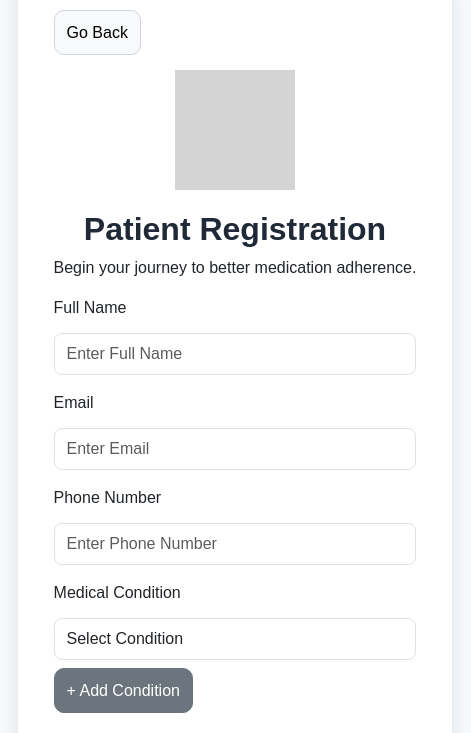
Test: PatientRegister Component › adds selected medical condition
This screenshot has width=471, height=733.
Select "Diabetes" in the dropdown showing "Select Condition" at point(235, 639), box [54,618,416,660]
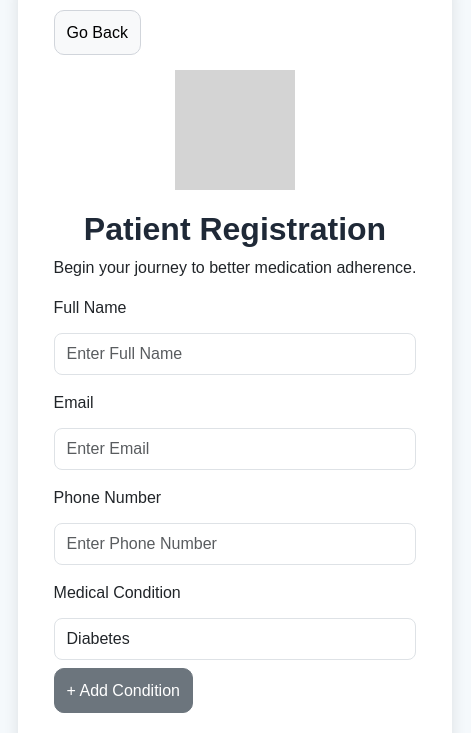
Click the button "+ Add Condition" at point(123, 691), box [54,668,193,713]
(page scrolled)
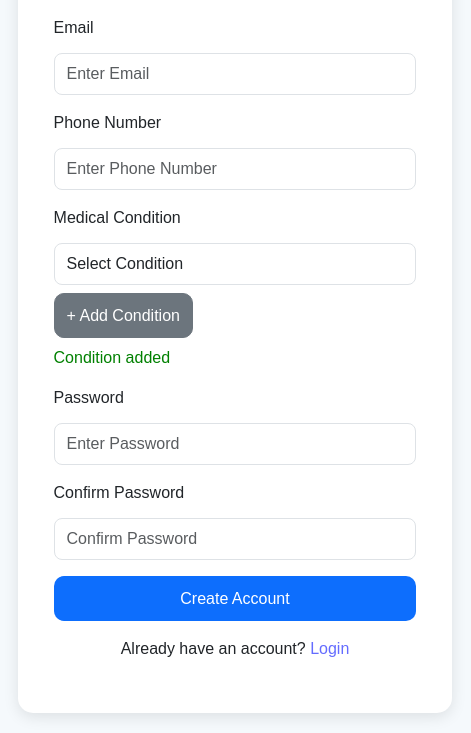
Check: the text "Condition added" is shown, box [54,349,170,366]
